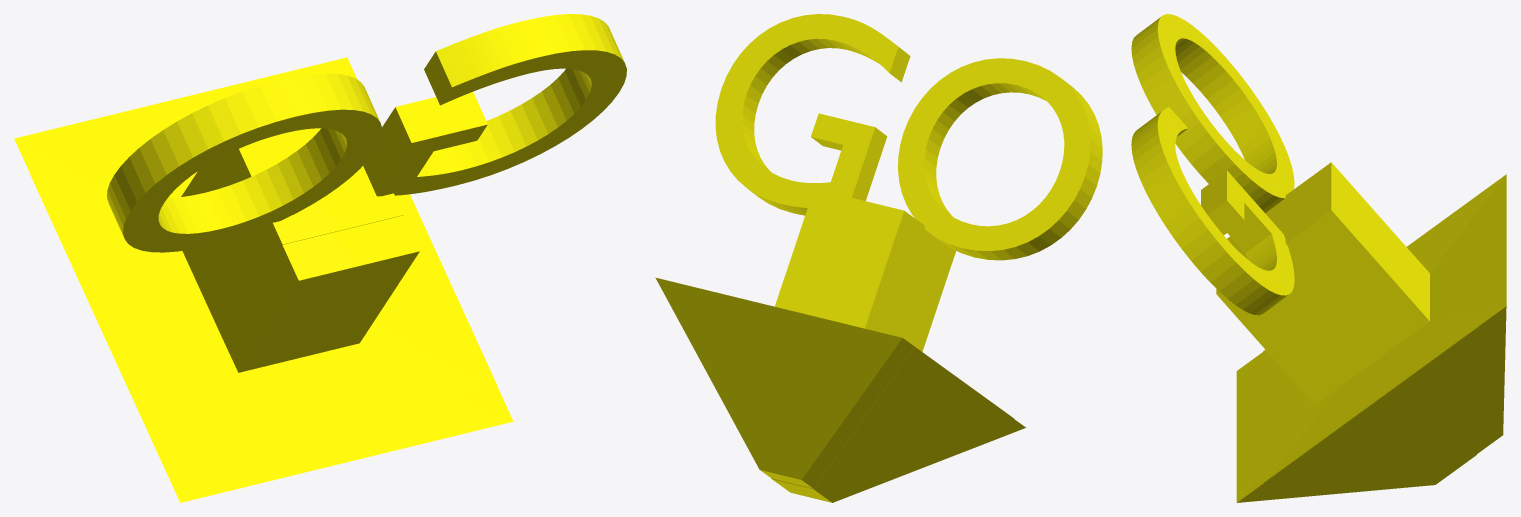
The picture shows the model from 3 angles, left to right: view 1: azimuth 30°, elevation 25°; view 2: azimuth 150°, elevation 25°; view 3: azimuth 270°, elevation 25°; orthographic projection. The views are drawn at different scales.
Parts seen in each view (by area): view 1: テキスト; view 2: テキスト; view 3: テキスト.
Part boxes in pixels (x1=…): テキスト: x1=14, y1=14, x2=626, y2=502; テキスト: x1=655, y1=14, x2=1102, y2=502; テキスト: x1=1131, y1=14, x2=1506, y2=502.
Size of the model in its own units: 1.47 by 1.41 by 1.2.
